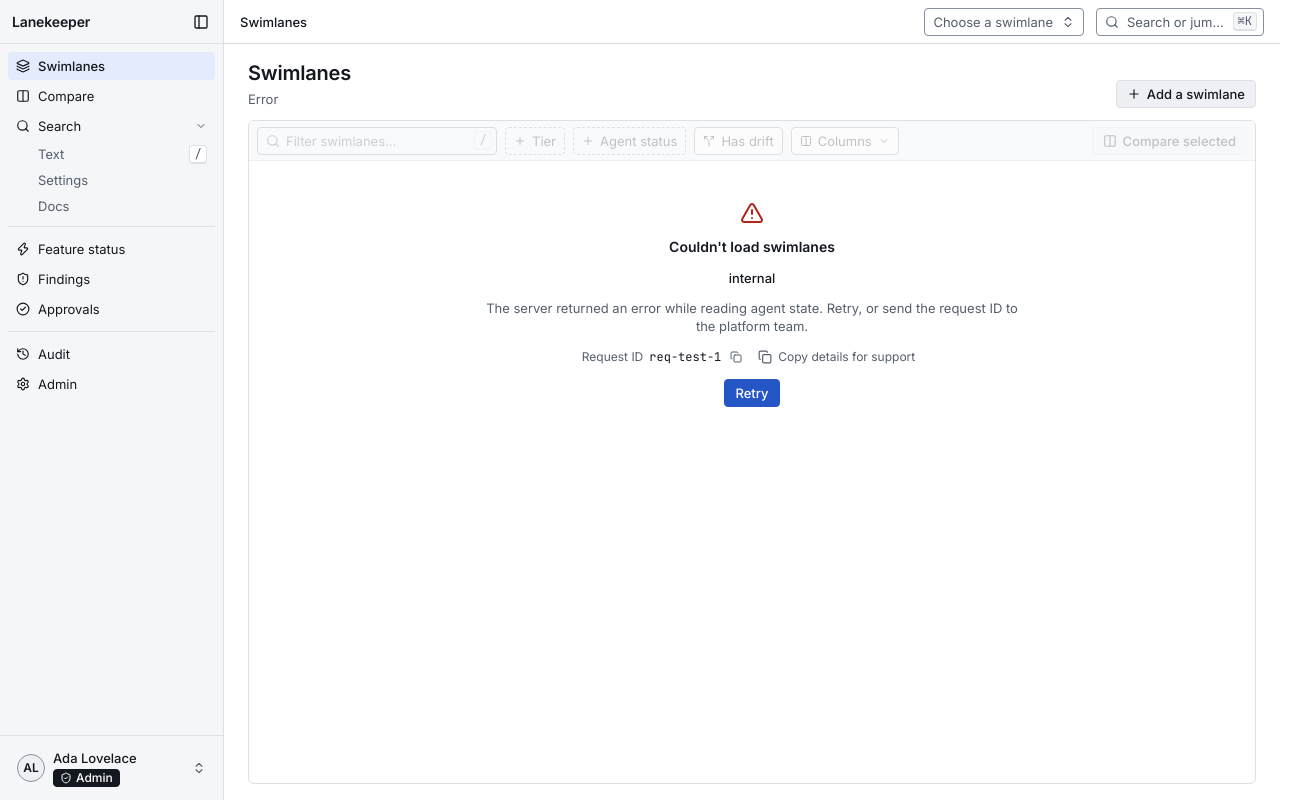
Test: the states of the States index › shows the problem's title and its request ID when the list cannot be read, and Retry reads it again
Expected: the heading "Couldn't load swimlanes" is shown, [669,237,835,257]
Expected: the text "req-test-1" is shown, [649,349,721,365]
Click the button "Retry" at [752, 393], box [724,379,780,407]
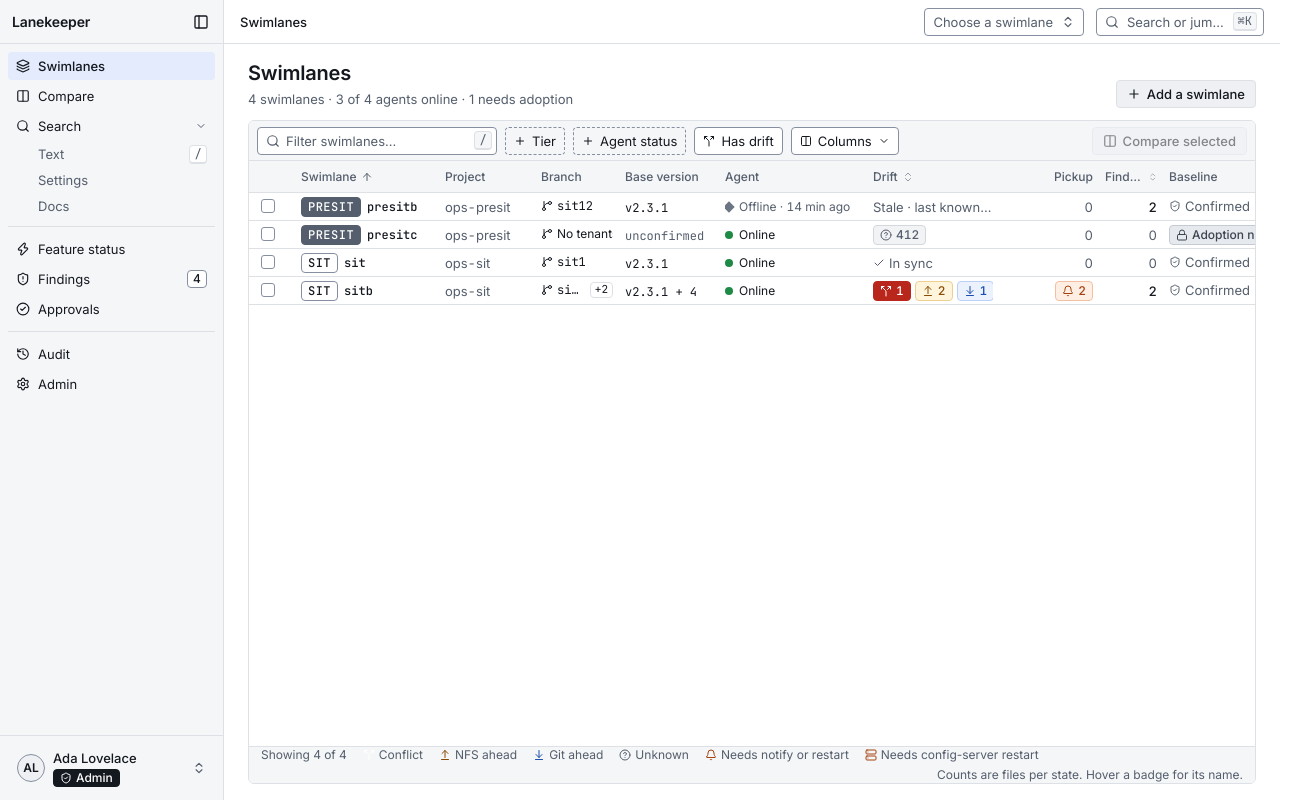
Now the link "sitb" is shown, box [344,282,373,298]
